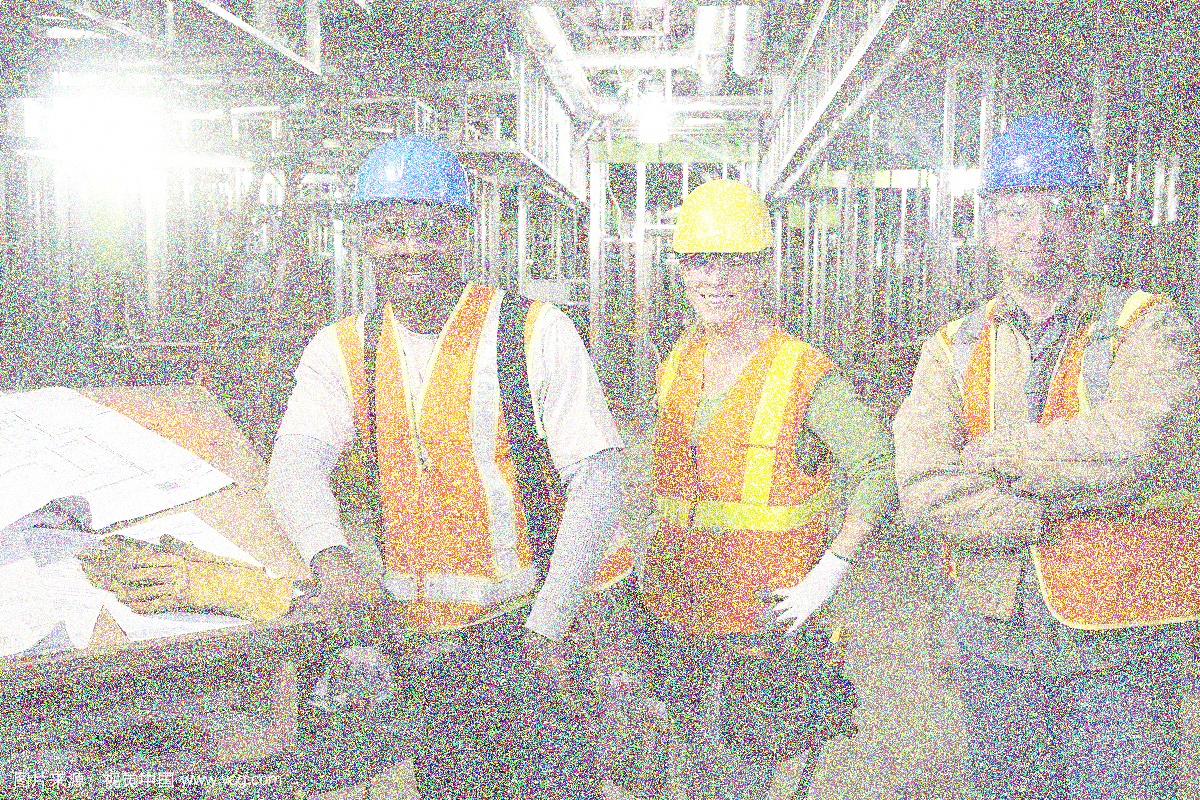helmet: (342, 131, 483, 312), (971, 107, 1109, 287), (663, 177, 779, 333)
vest: (286, 290, 629, 630), (893, 276, 1200, 642), (639, 327, 868, 637)
